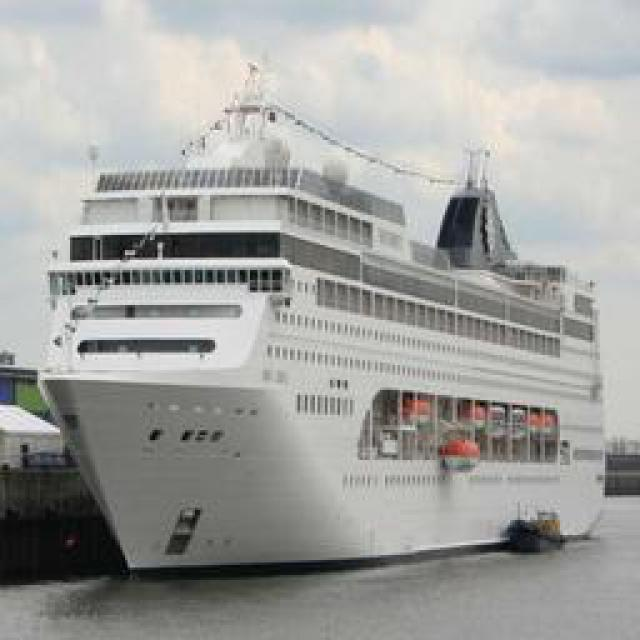Ship: (38, 62, 616, 575)
